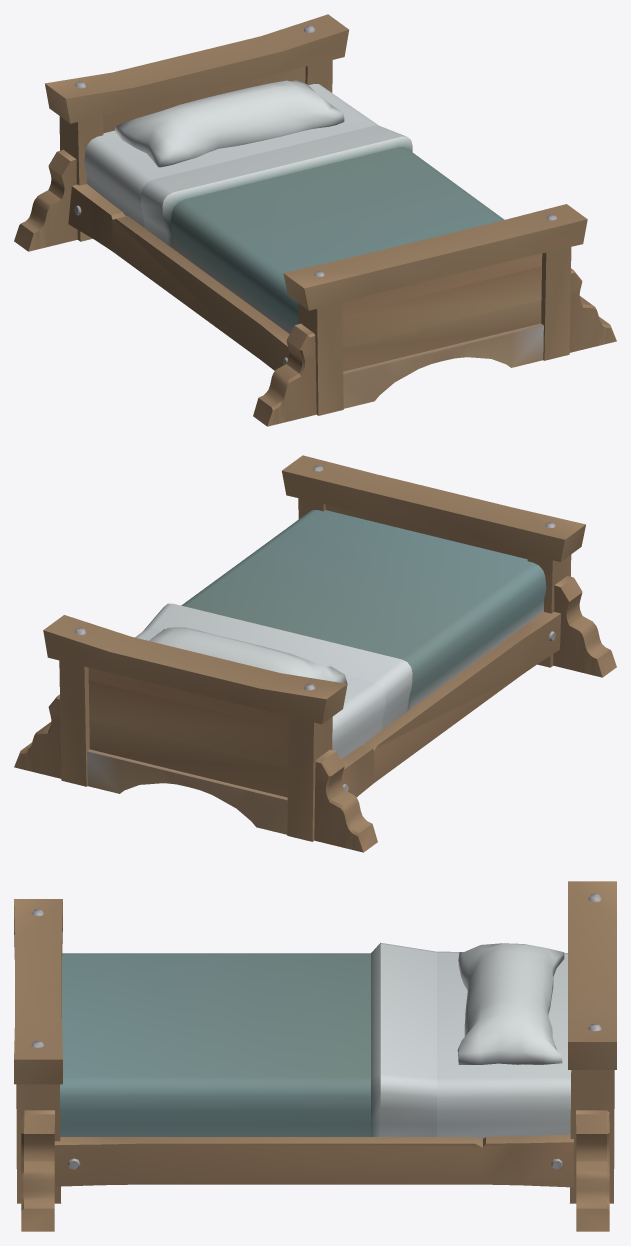
The model's file is Bed_Twin2.glb.
3 views of the same model, one above another, from view 1: azimuth 30°, elevation 25°; view 2: azimuth 150°, elevation 25°; view 3: azimuth 270°, elevation 25° (orthographic). The views are drawn at different scales.
Parts seen in each view (by area): view 1: Bed_Twin2_30753e, Bed_Twin2_accf35; view 2: Bed_Twin2_30753e, Bed_Twin2_accf35; view 3: Bed_Twin2_accf35, Bed_Twin2_30753e, Bed_Twin2_7b182f.
Part boxes in pixels (x1,y1,x2,y2): Bed_Twin2_30753e: (14, 14, 616, 426); Bed_Twin2_accf35: (84, 80, 504, 333); Bed_Twin2_30753e: (14, 455, 616, 852); Bed_Twin2_accf35: (135, 510, 546, 759); Bed_Twin2_accf35: (60, 942, 571, 1138); Bed_Twin2_30753e: (14, 881, 616, 1231); Bed_Twin2_7b182f: (31, 893, 601, 1169).
Size of the model in its own units: 1.88 by 0.7596 by 2.41.
